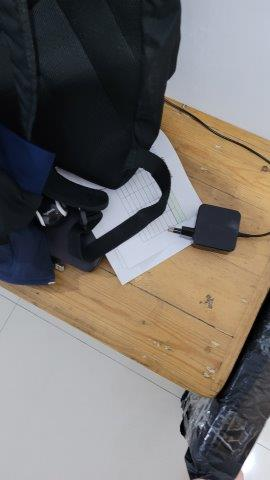kertas: (53, 126, 208, 284)
